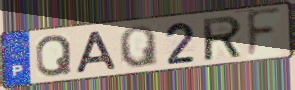2: (161, 19, 200, 68)
A: (74, 29, 120, 75)
F: (245, 5, 283, 61)
Q: (117, 24, 161, 70), (35, 33, 74, 79)
R: (201, 14, 244, 63)
